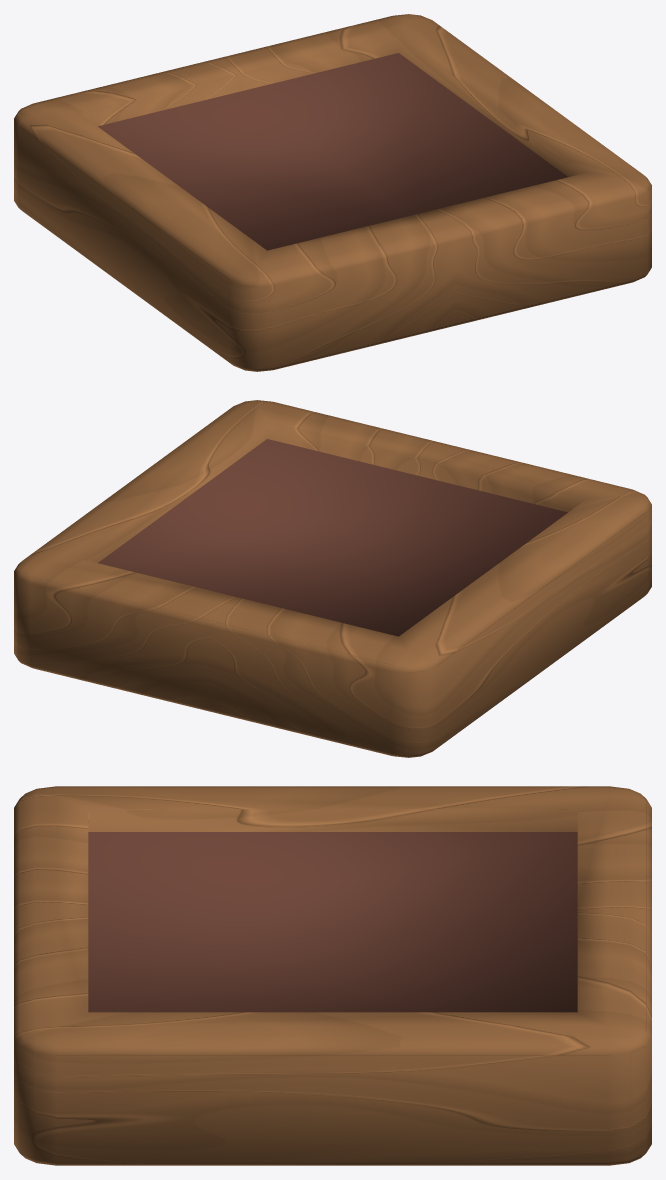
The model's file is OneCubee2.fbx.
The picture shows the model from 3 angles, top to bottom: view 1: azimuth 30°, elevation 25°; view 2: azimuth 150°, elevation 25°; view 3: azimuth 270°, elevation 25°; orthographic projection. The views are drawn at different scales.
Visible parts, largest first — view 1: Cubee.001; view 2: Cubee.001; view 3: Cubee.001.
Part boxes in pixels (<box>): Cubee.001: <box>14,14,651,371</box>; Cubee.001: <box>14,400,651,757</box>; Cubee.001: <box>14,786,651,1165</box>.
Bounding box in the file's own units: 9.48 × 2.16 × 9.61.
